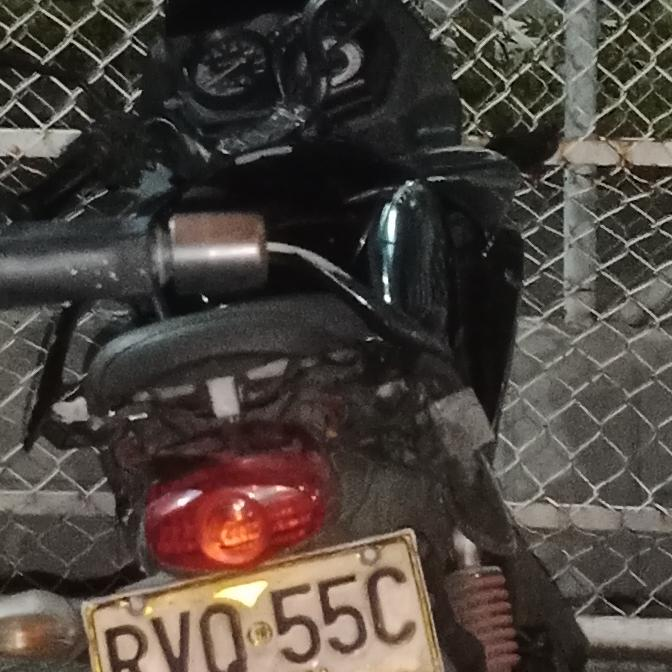plates: (82, 533, 439, 672)
